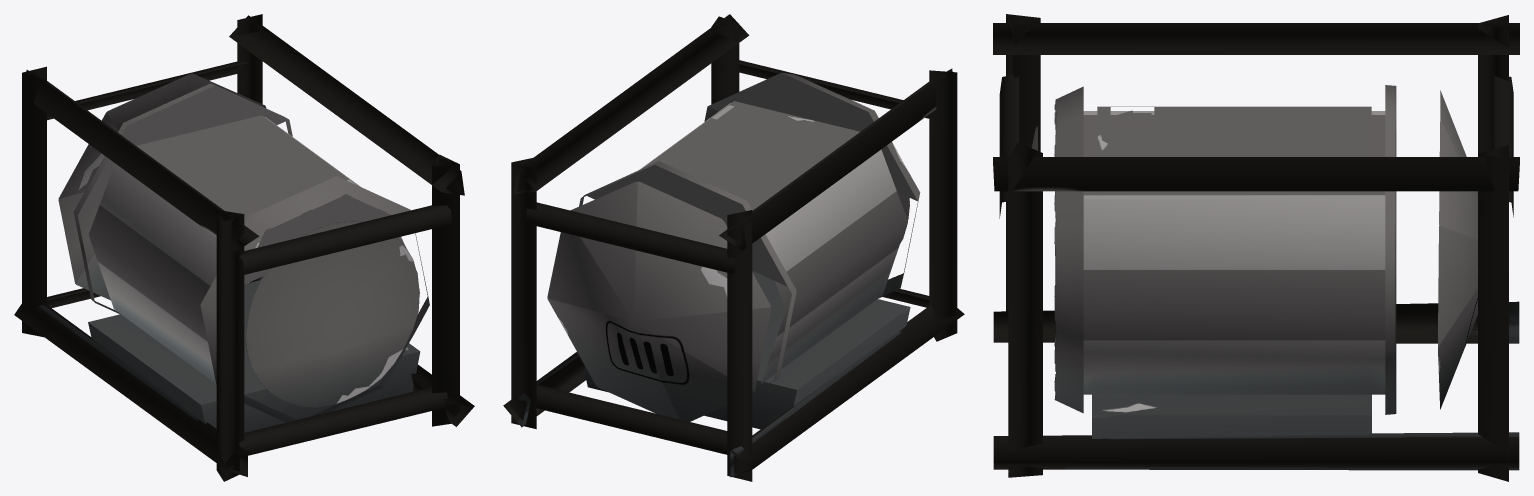
File: obj_interactive_electricengine_01_lod1.fbx
3 views of the same model, side by side, from view 1: azimuth 30°, elevation 25°; view 2: azimuth 150°, elevation 25°; view 3: azimuth 270°, elevation 25° (orthographic). The views are drawn at different scales.
Parts seen in each view (by area): view 1: polySurface10; view 2: polySurface10; view 3: polySurface10.
Boxes of the visible parts, x1,y1,x2,y2 form: polySurface10: [14, 14, 474, 481]; polySurface10: [503, 14, 964, 481]; polySurface10: [993, 14, 1519, 481].
Size of the model in its own units: 2.05 by 2.05 by 3.04.
1 material, 1 textured.
